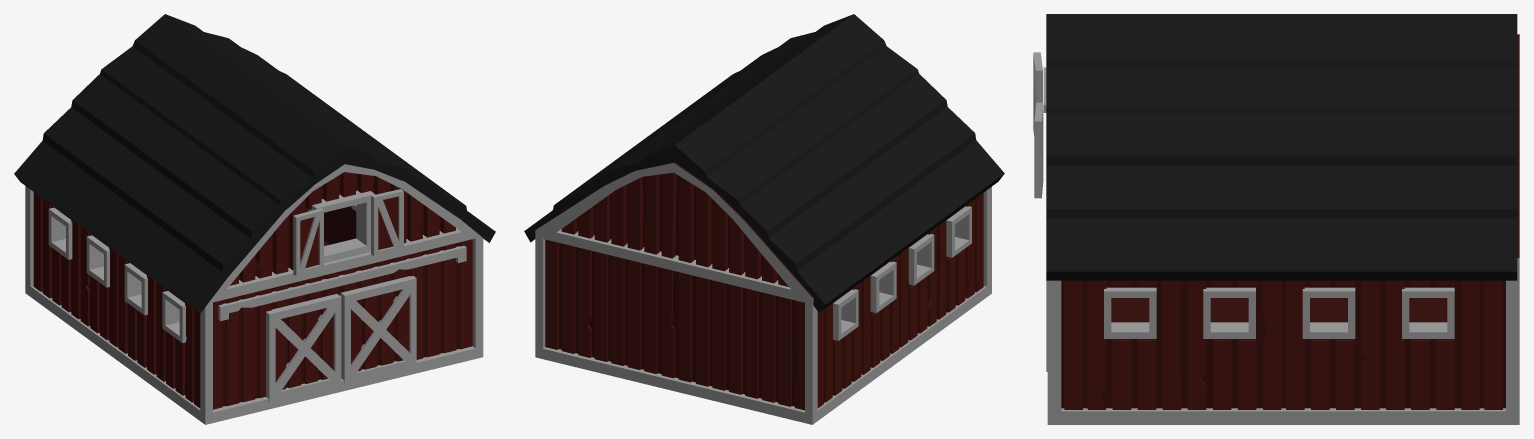
Rendered from Barn.obj.
The picture shows the model from 3 angles, left to right: view 1: azimuth 30°, elevation 25°; view 2: azimuth 150°, elevation 25°; view 3: azimuth 270°, elevation 25°; orthographic projection. The views are drawn at different scales.
Parts seen in each view (by area): view 1: Barn; view 2: Barn; view 3: Barn.
Boxes of the visible parts, x1=… form: Barn: x1=14, y1=14, x2=495, y2=424; Barn: x1=524, y1=14, x2=1004, y2=424; Barn: x1=1033, y1=14, x2=1519, y2=424.
Size of the model in its own units: 7.73 by 6.01 by 8.22.
